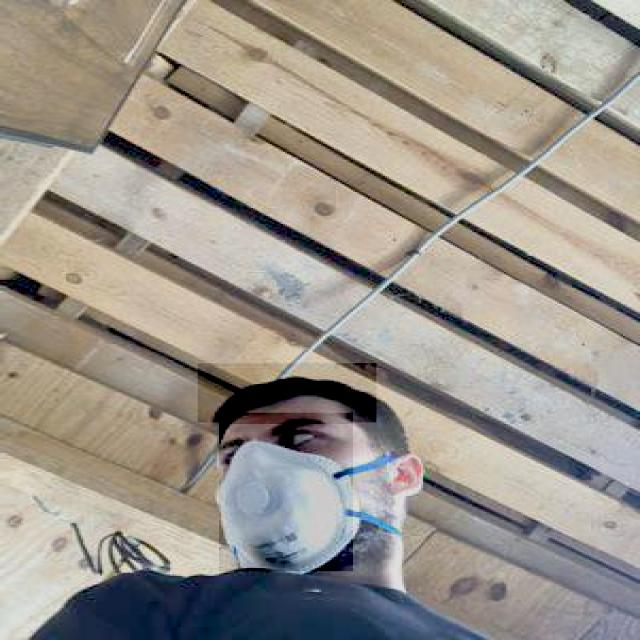face_mask: (217, 413, 353, 573)
head_nohelmet: (196, 363, 376, 424)
